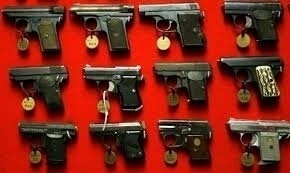pistol: (137, 4, 213, 60), (225, 0, 283, 55), (9, 6, 67, 60), (85, 117, 147, 167), (155, 120, 217, 167), (15, 119, 78, 165), (229, 55, 288, 104), (225, 116, 285, 164), (17, 65, 74, 112), (156, 63, 213, 110), (79, 9, 137, 54), (84, 64, 143, 108)
